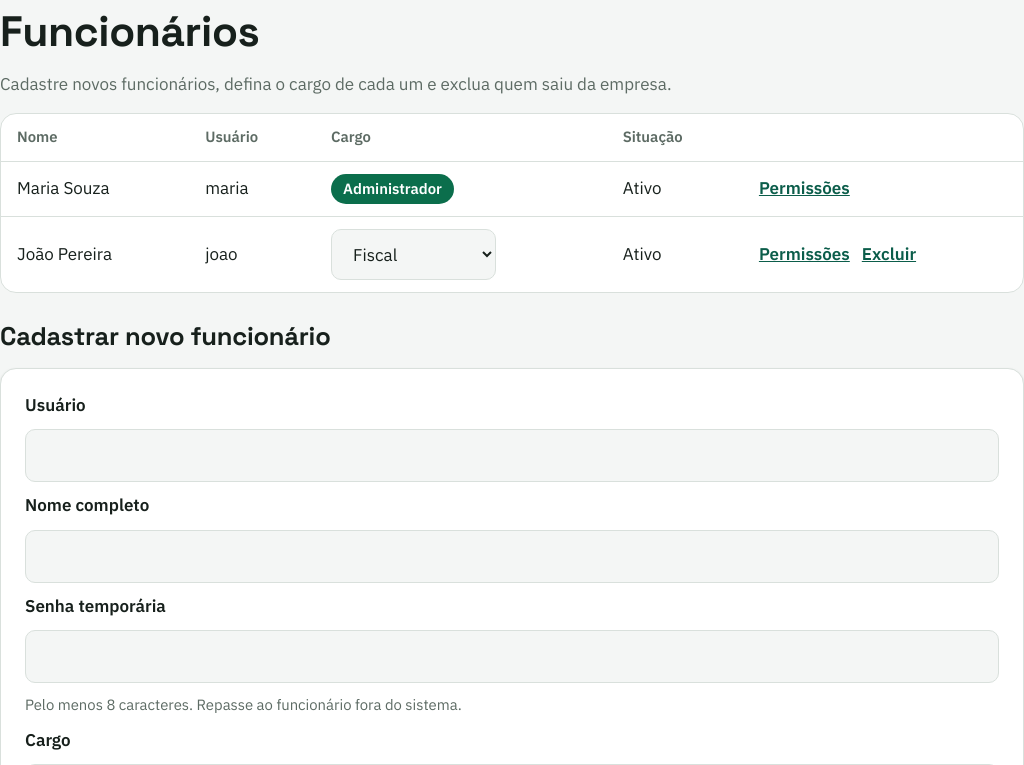
Scenario: CreateEmployeePage - cadastro › cadastra o funcionário, mostra o aviso e limpa o formulário
The image size is (1024, 765).
Check: the text "João Pereira" is shown, box left=1, top=216, right=189, bottom=292
In the field labelled "Usuário": (512, 456) left=25, top=429, right=999, bottom=482, type "ana"
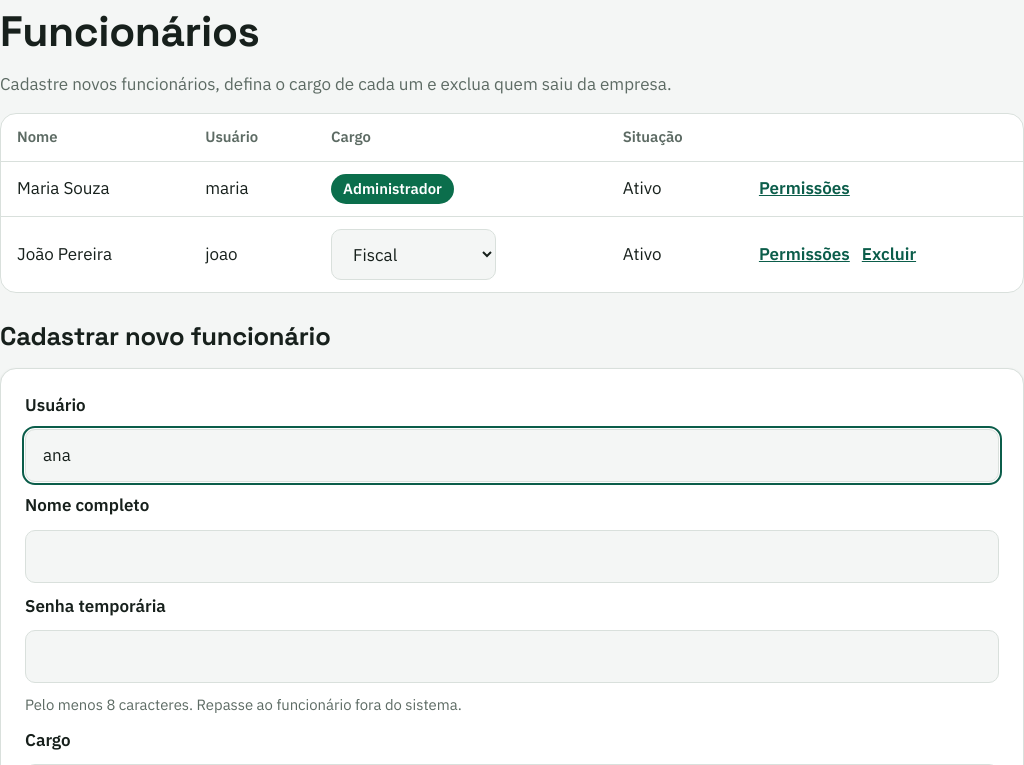
In the field labelled "Nome completo": (512, 556) left=25, top=530, right=999, bottom=583, type "Ana Costa"
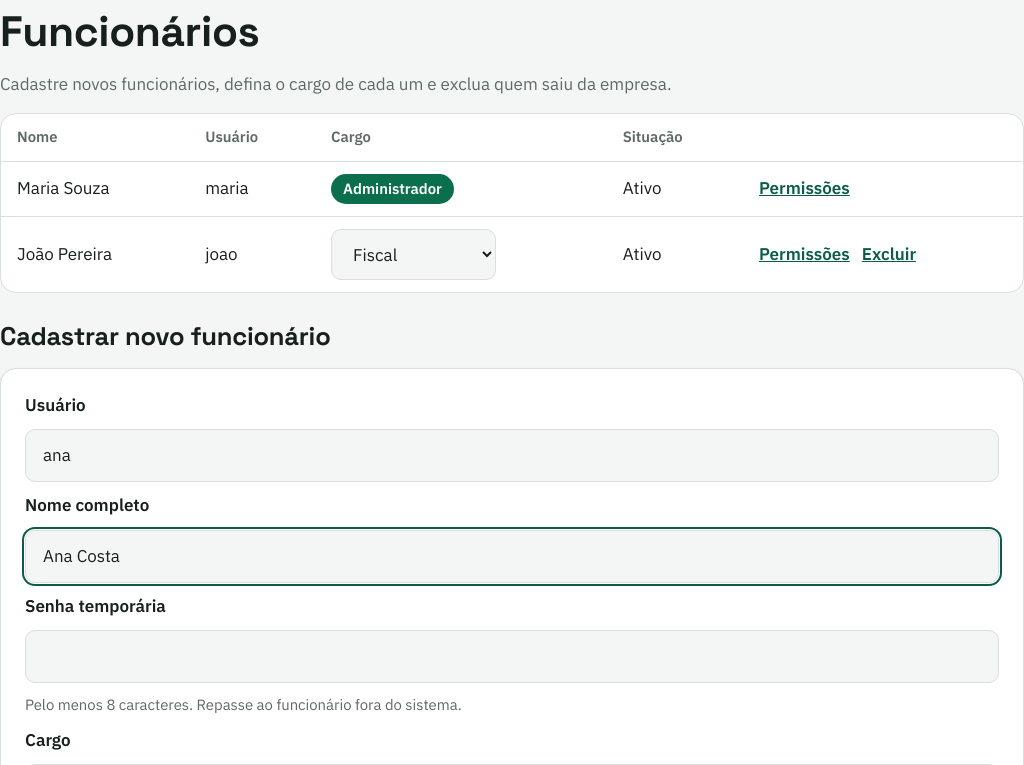
In the field labelled "Senha temporária": (512, 657) left=25, top=630, right=999, bottom=683, type "senha-temp-1"
(page scrolled)
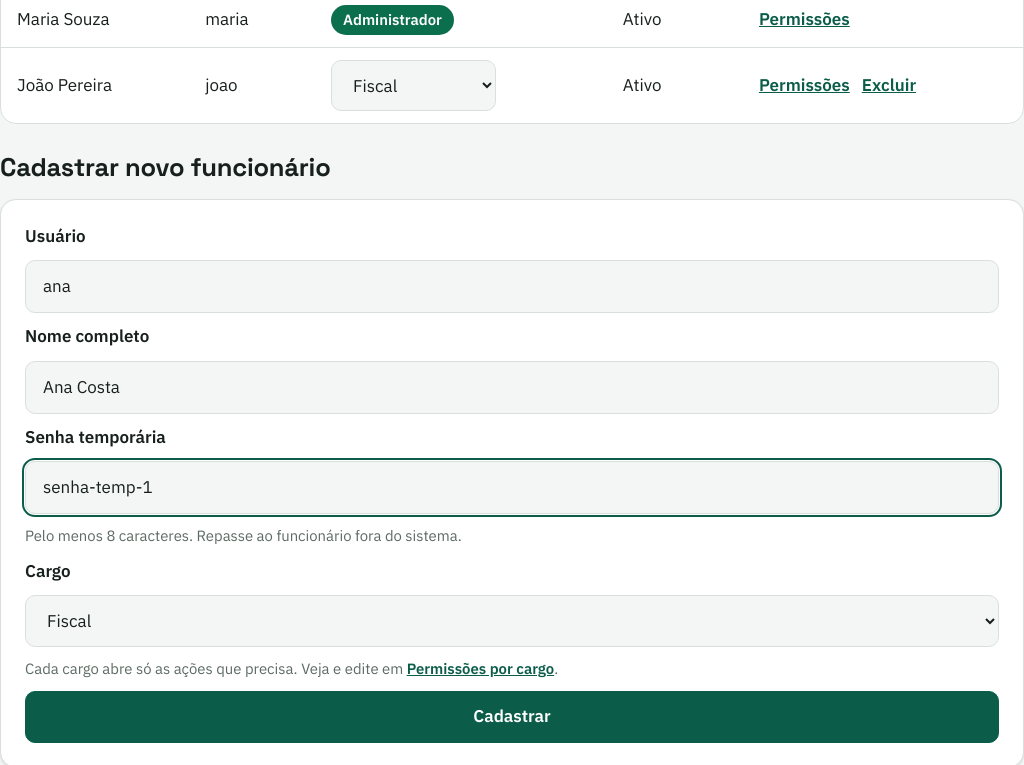
Select "Administrador" in the dropdown labelled "Cargo": (512, 621) left=25, top=595, right=999, bottom=647
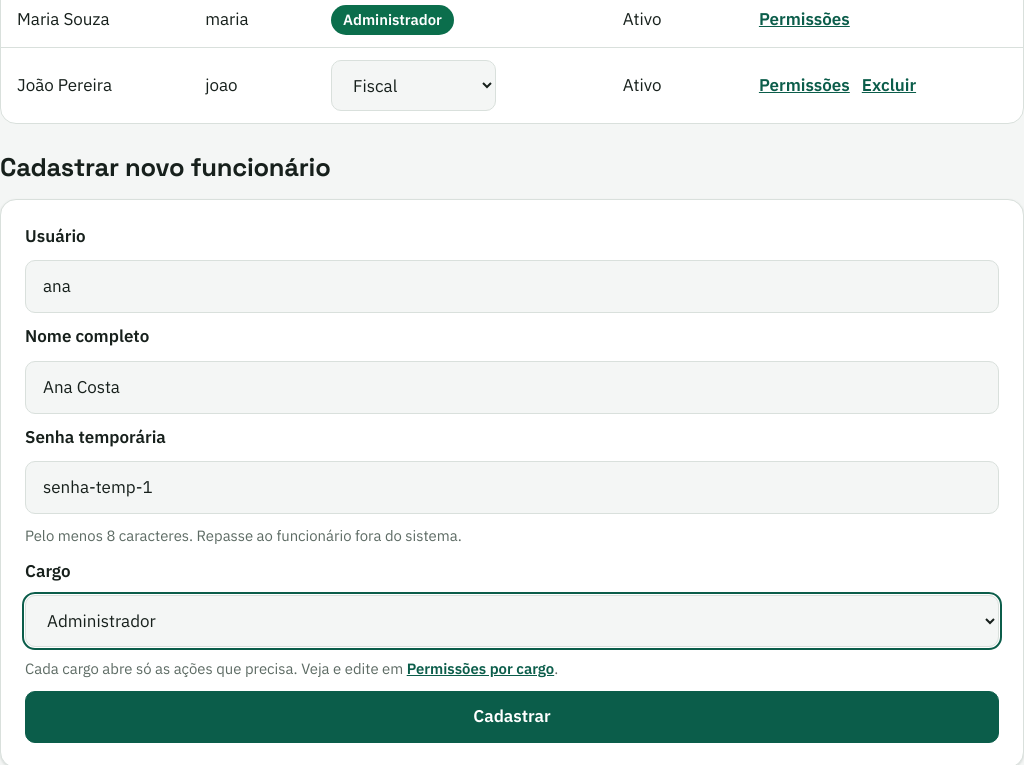
Click the button "Cadastrar": (512, 717) left=25, top=691, right=999, bottom=742
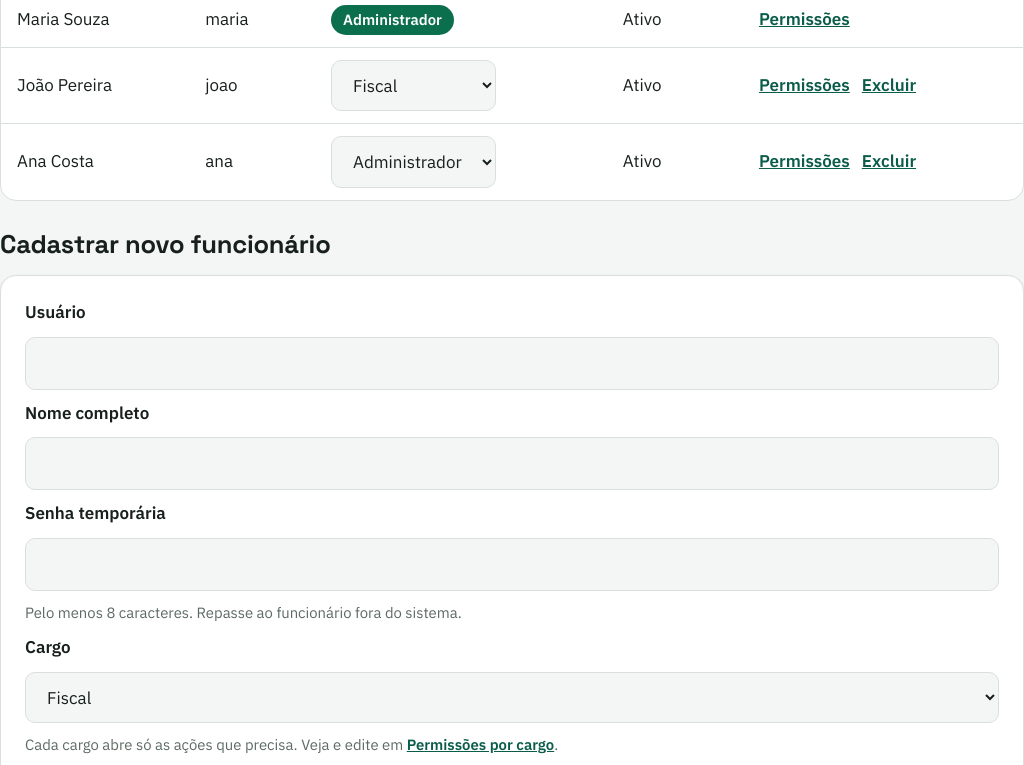
Check: the field labelled "Usuário" is empty, box left=25, top=337, right=999, bottom=390
Check: the text "Ana Costa" is shown, box left=1, top=124, right=189, bottom=200
